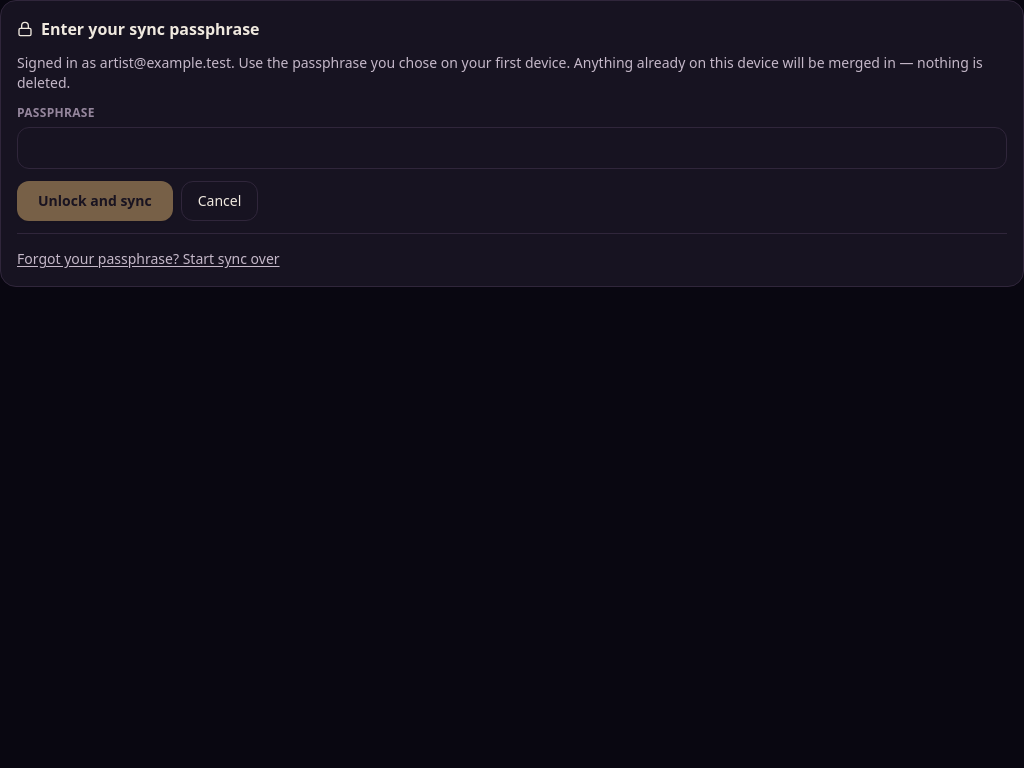
Test: forgotten passphrase › offers to start over, and does nothing unless confirmed
Click the button "Forgot your passphrase? Start sync over".
click(148, 259)  # box [17,249,280,269]
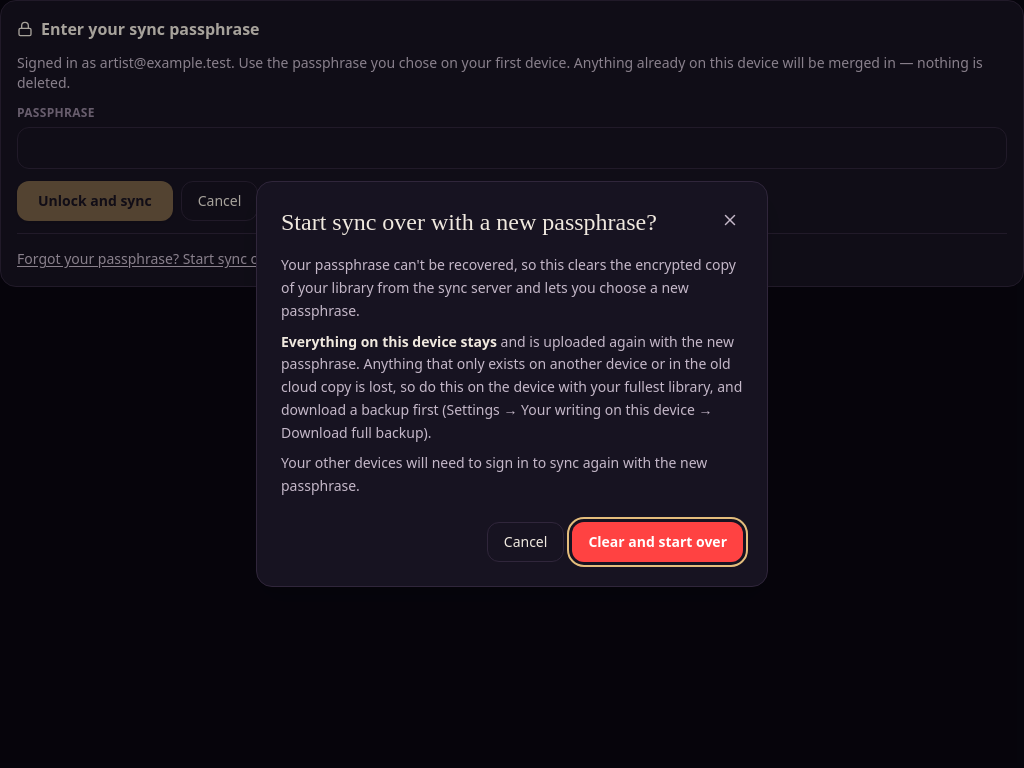
Click the button "Cancel".
click(526, 542)  # box [487,522,564,562]
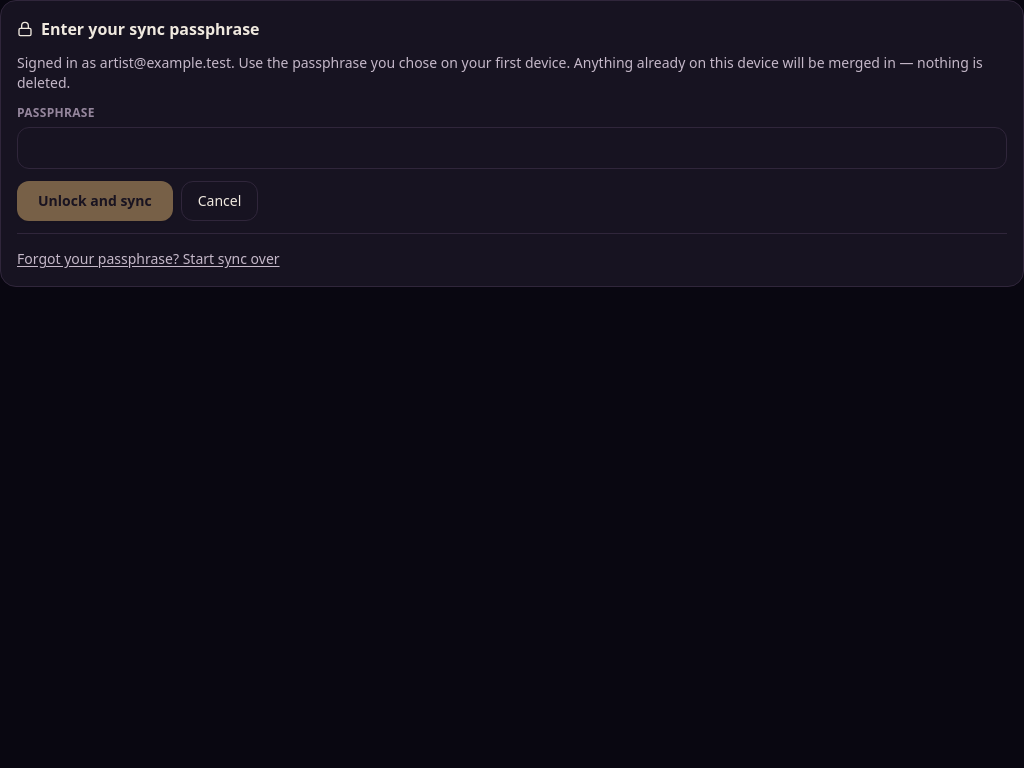
Now the text "Everything on this device stays" is gone
